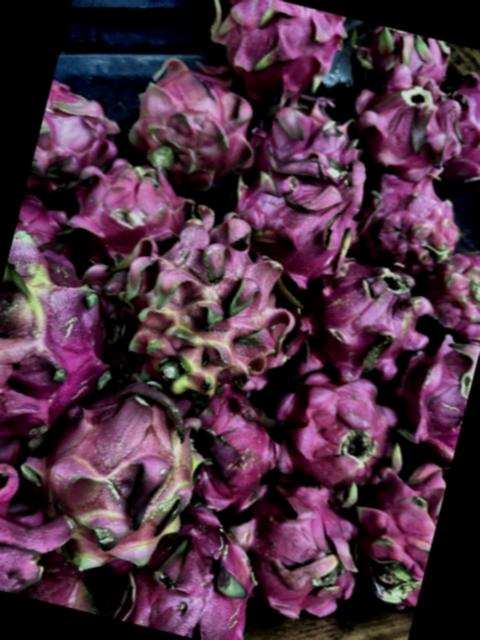buah-naga-belum-matang: (25, 356, 220, 598), (106, 187, 317, 410), (0, 220, 143, 461)
buah-naga-matang: (94, 491, 280, 640), (214, 466, 385, 622), (220, 143, 373, 299), (122, 48, 268, 201), (289, 235, 436, 386), (258, 364, 406, 490), (340, 59, 474, 192), (190, 0, 349, 110), (62, 141, 198, 269), (171, 378, 293, 518), (339, 458, 448, 605), (366, 326, 480, 464), (351, 167, 477, 284), (251, 86, 375, 184), (0, 458, 82, 602), (28, 79, 128, 196), (344, 20, 454, 100), (416, 236, 480, 342)
